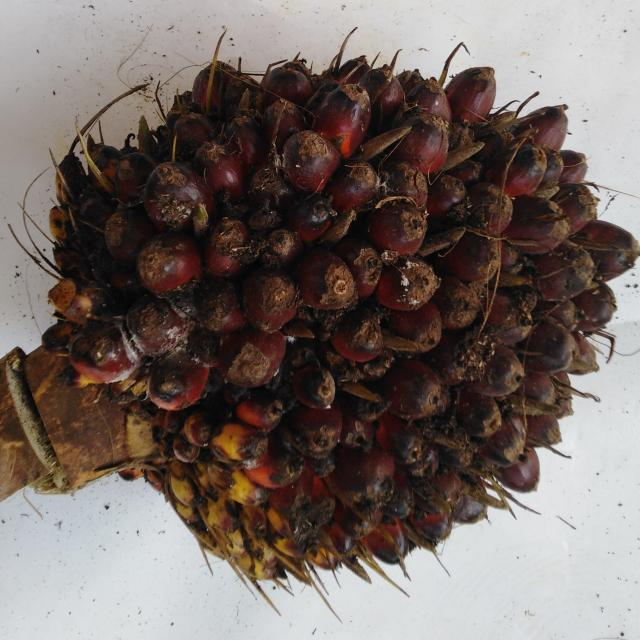FFB: (46, 59, 636, 578)
